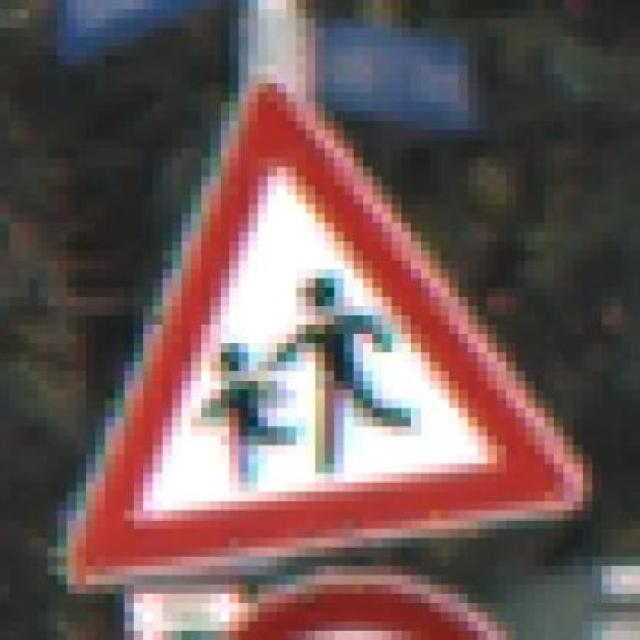Beware of children: (57, 65, 583, 584)
